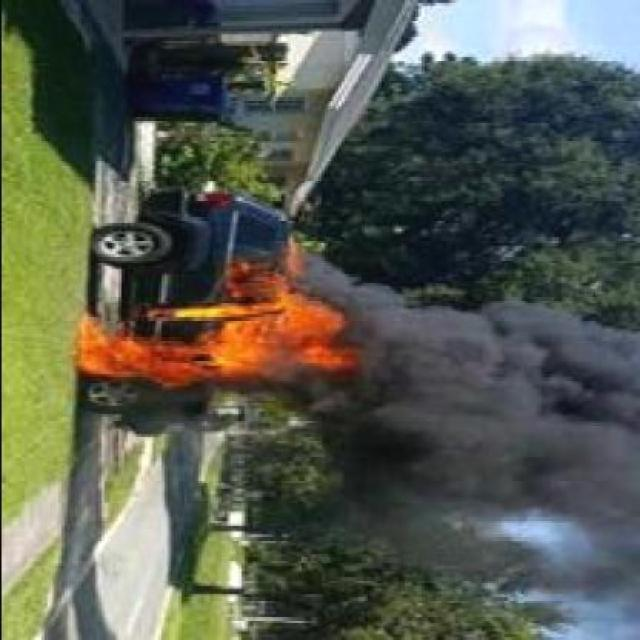Fire: (72, 254, 370, 391)
Smoke: (369, 271, 640, 632)
